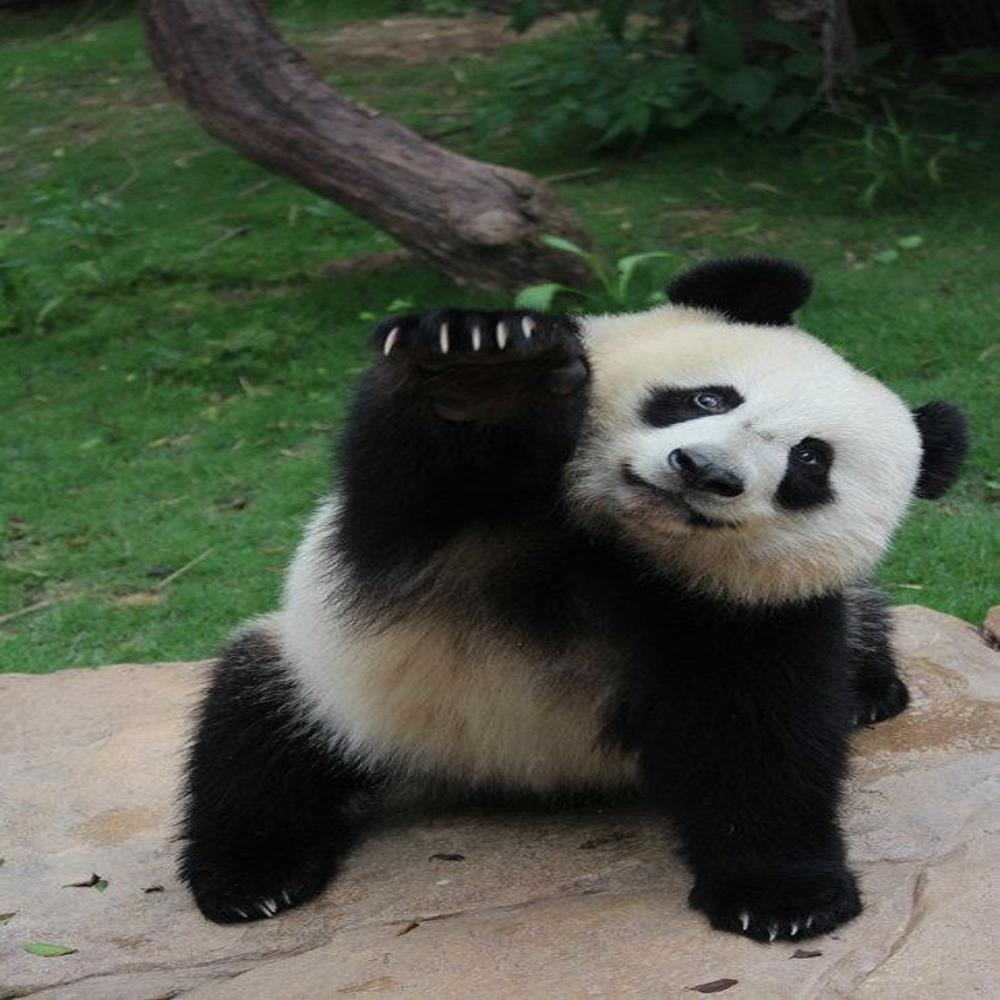panda: (178, 248, 974, 953)
